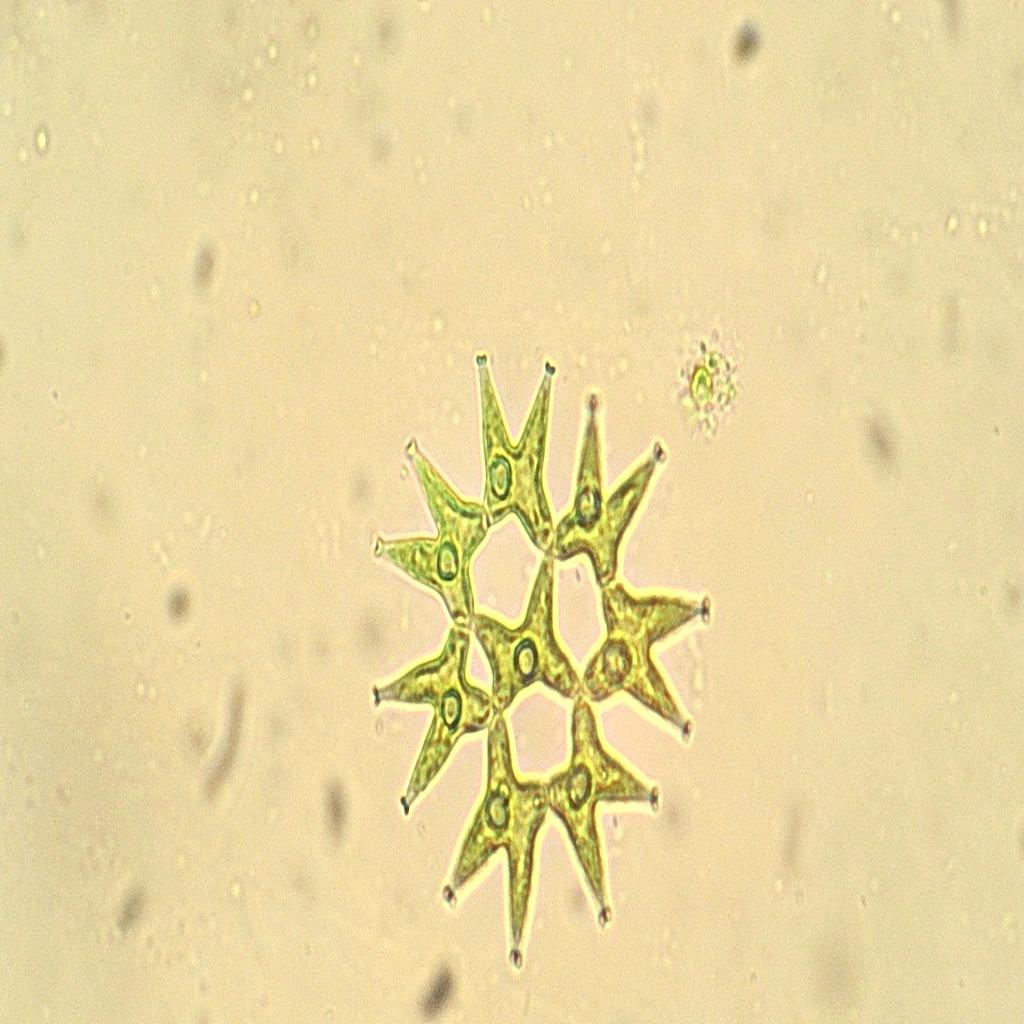Pediastrum_CTH: (354, 327, 730, 988)
